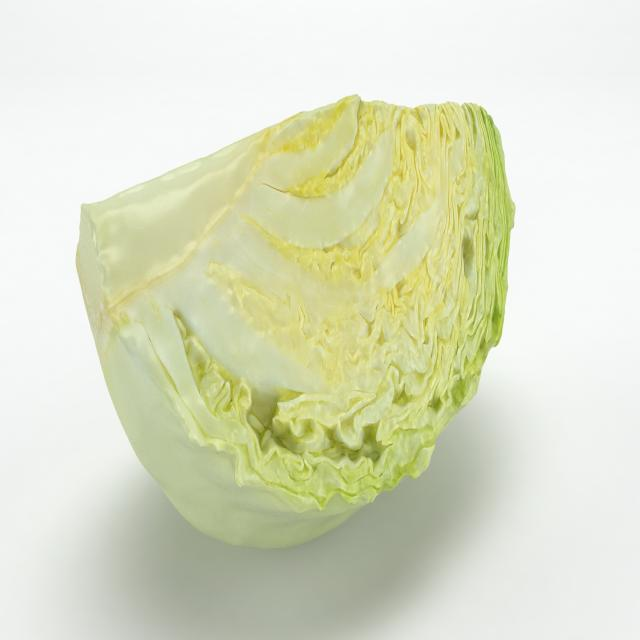haft-cabbage: (75, 84, 511, 552)
